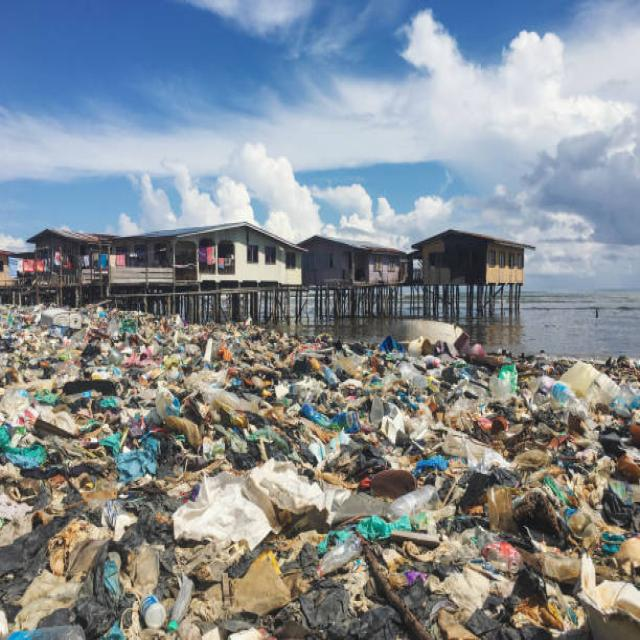trash: (24, 314, 619, 594)
